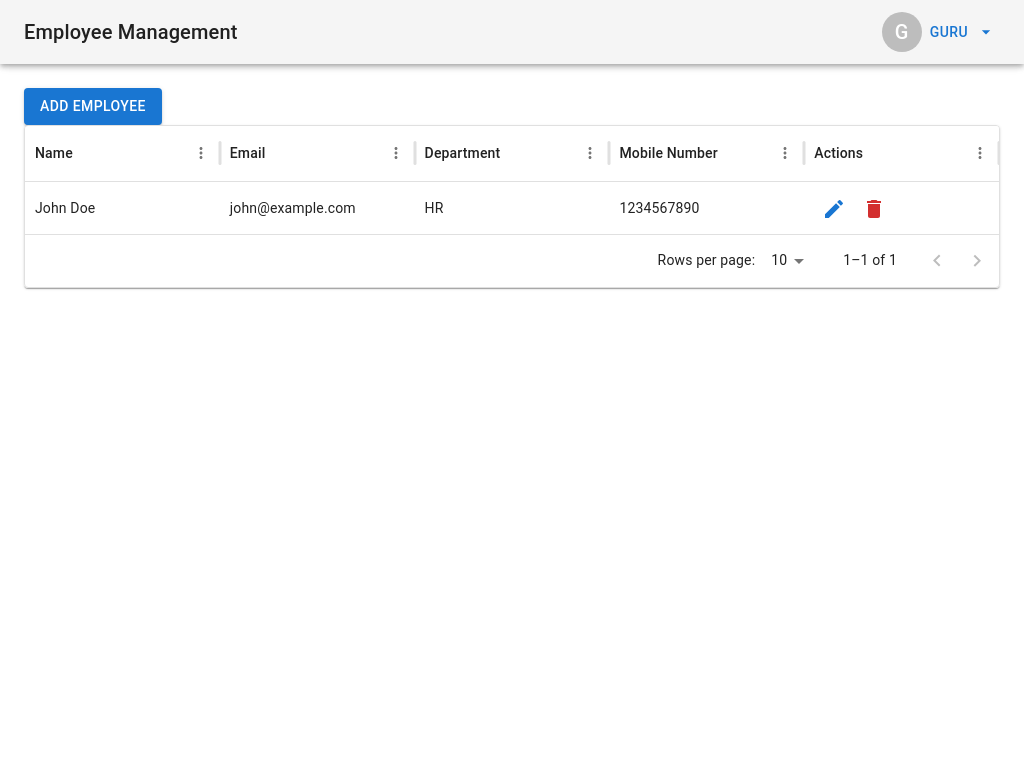
EmployeeList Component › add employee
What coordinates should you click on to do the following:
click the button "Add Employee"
I would click on:
 (93, 106)
Its box is x1=24 y1=88 x2=162 y2=124.
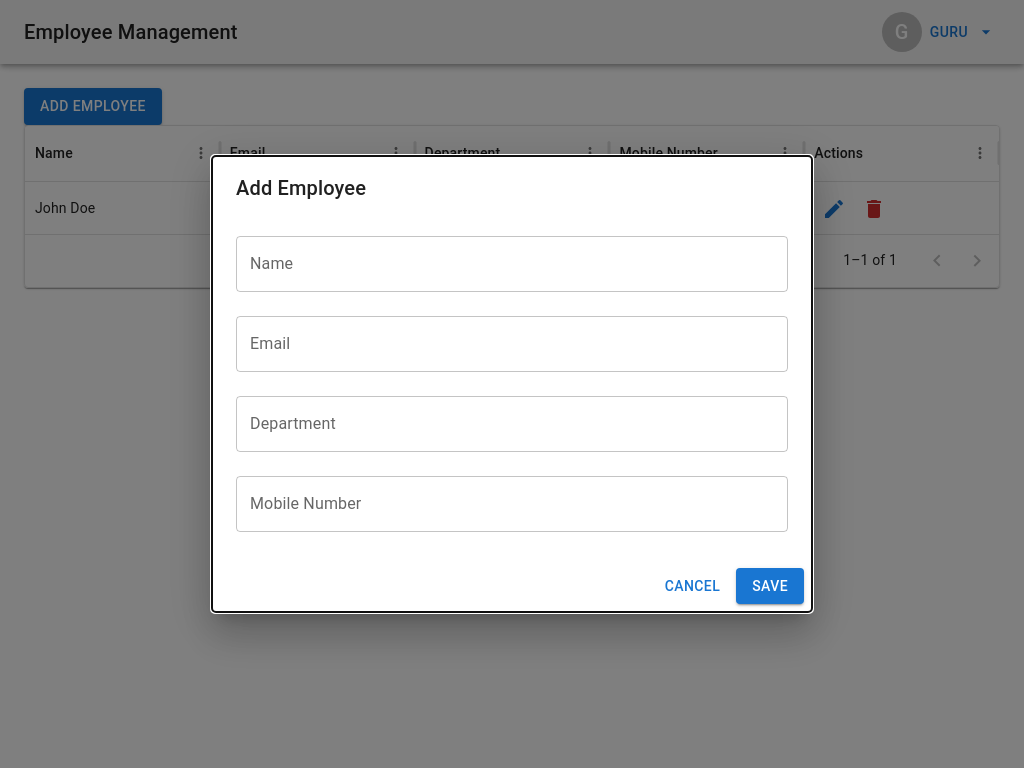
Expected: the heading "Add Employee" is shown, x1=236 y1=176 x2=366 y2=200
Expected: the field labelled "Name" is shown, x1=236 y1=236 x2=788 y2=292
